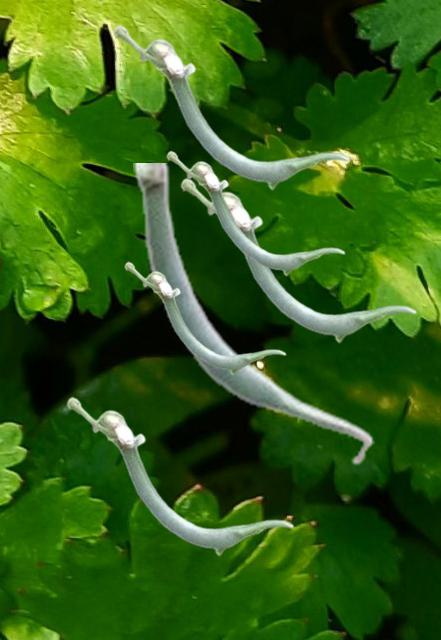french_bean: (133, 163, 373, 466), (180, 177, 416, 342), (113, 24, 349, 189), (66, 396, 293, 555), (166, 150, 344, 275), (124, 261, 285, 374)
